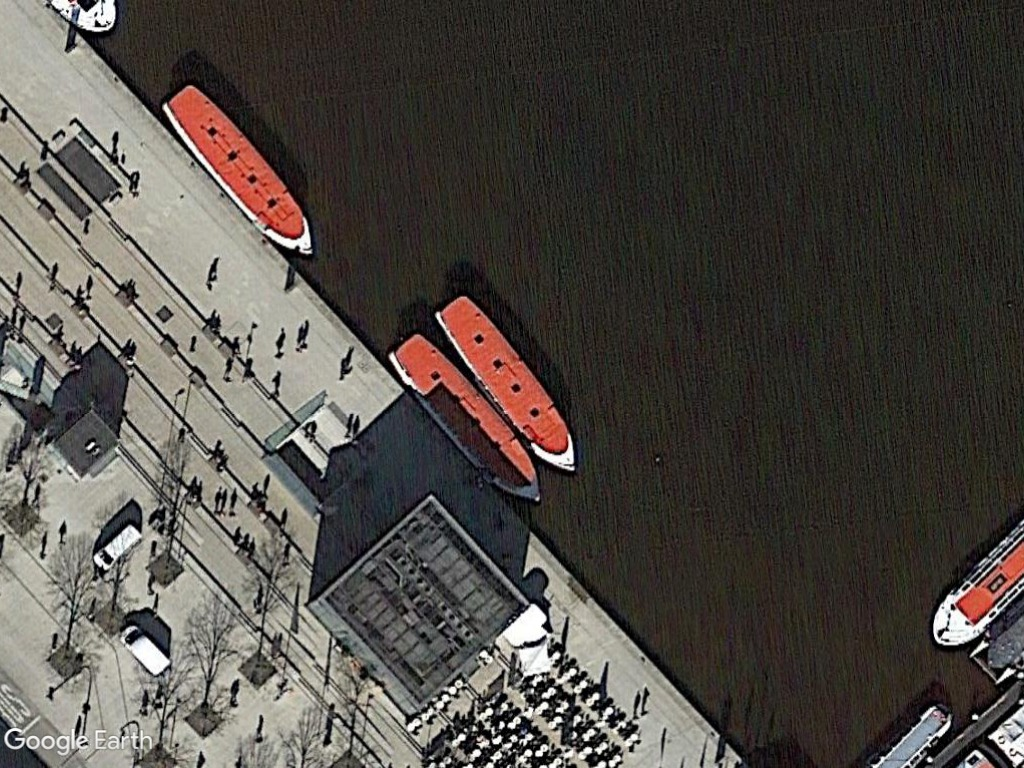boat: (156, 77, 322, 262), (387, 328, 547, 508), (432, 287, 581, 476)
van: (116, 622, 173, 679), (90, 521, 146, 574)
